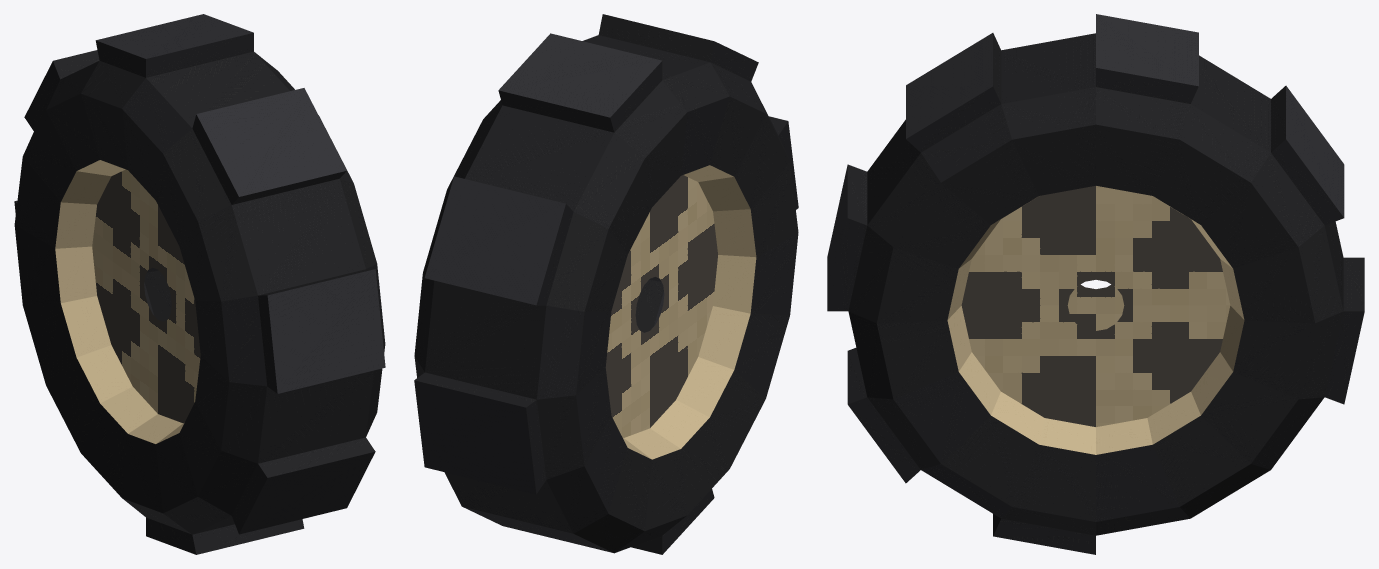
The model's file is dune_buggy_wheel.fbx.
3 views of the same model, side by side, from view 1: azimuth 30°, elevation 25°; view 2: azimuth 150°, elevation 25°; view 3: azimuth 270°, elevation 25° (orthographic). The views are drawn at different scales.
Visible parts, largest first — view 1: dune_buggy_wheel; view 2: dune_buggy_wheel; view 3: dune_buggy_wheel.
Boxes of the visible parts, bbox=[...] form: dune_buggy_wheel: bbox=[14, 14, 385, 554]; dune_buggy_wheel: bbox=[414, 14, 798, 554]; dune_buggy_wheel: bbox=[827, 14, 1364, 554].
Size of the model in its own units: 26 by 76 by 76.
Materials: 1 (1 with a texture image).
